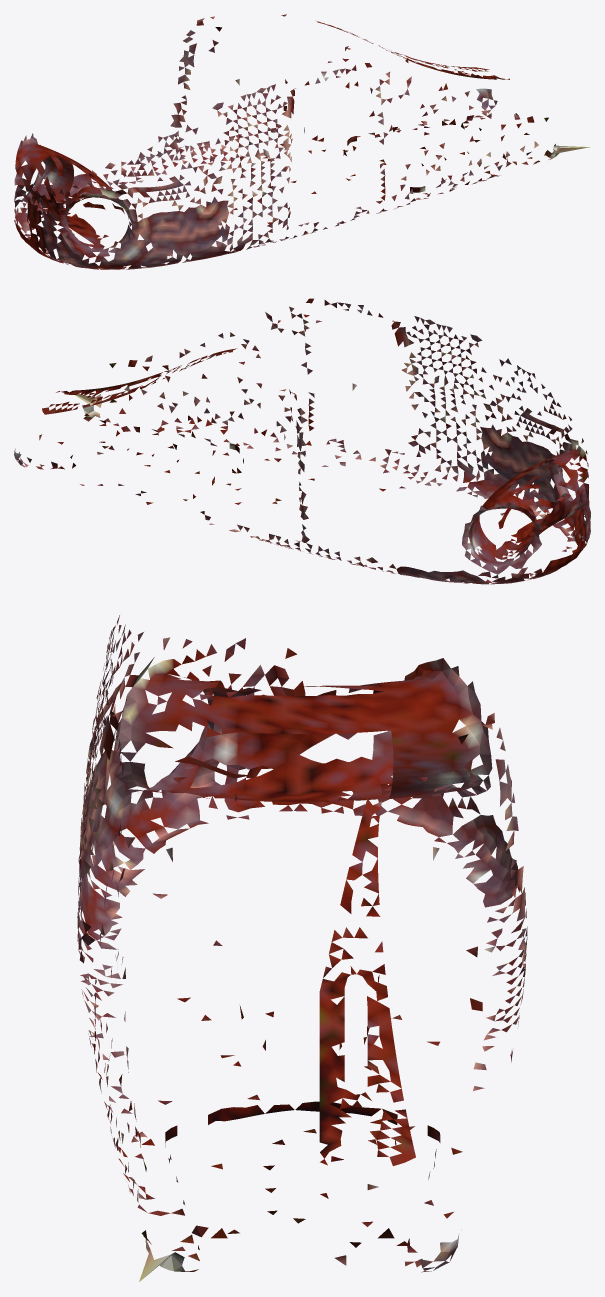
The picture shows the model from 3 angles, top to bottom: view 1: azimuth 30°, elevation 25°; view 2: azimuth 150°, elevation 25°; view 3: azimuth 270°, elevation 25°; orthographic projection. The views are drawn at different scales.
Size of the model in its own units: 2.01 by 0.5753 by 0.7487.
